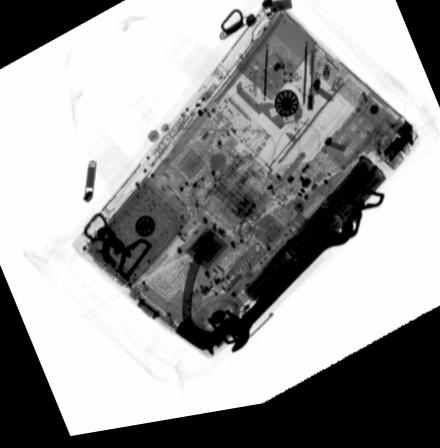Wrench: (215, 218, 354, 362)
